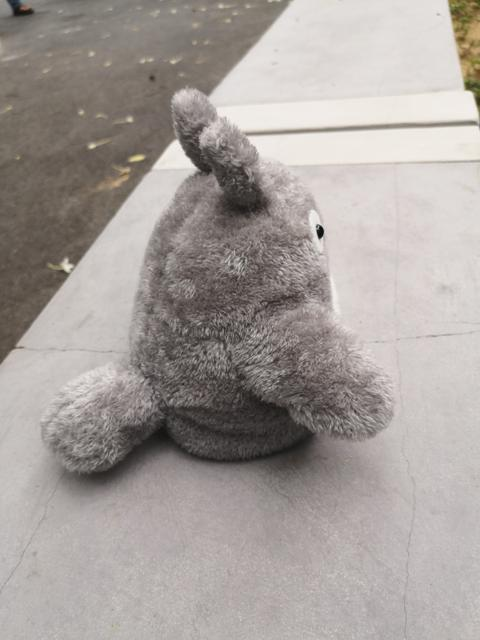totoro: (35, 81, 400, 485)
